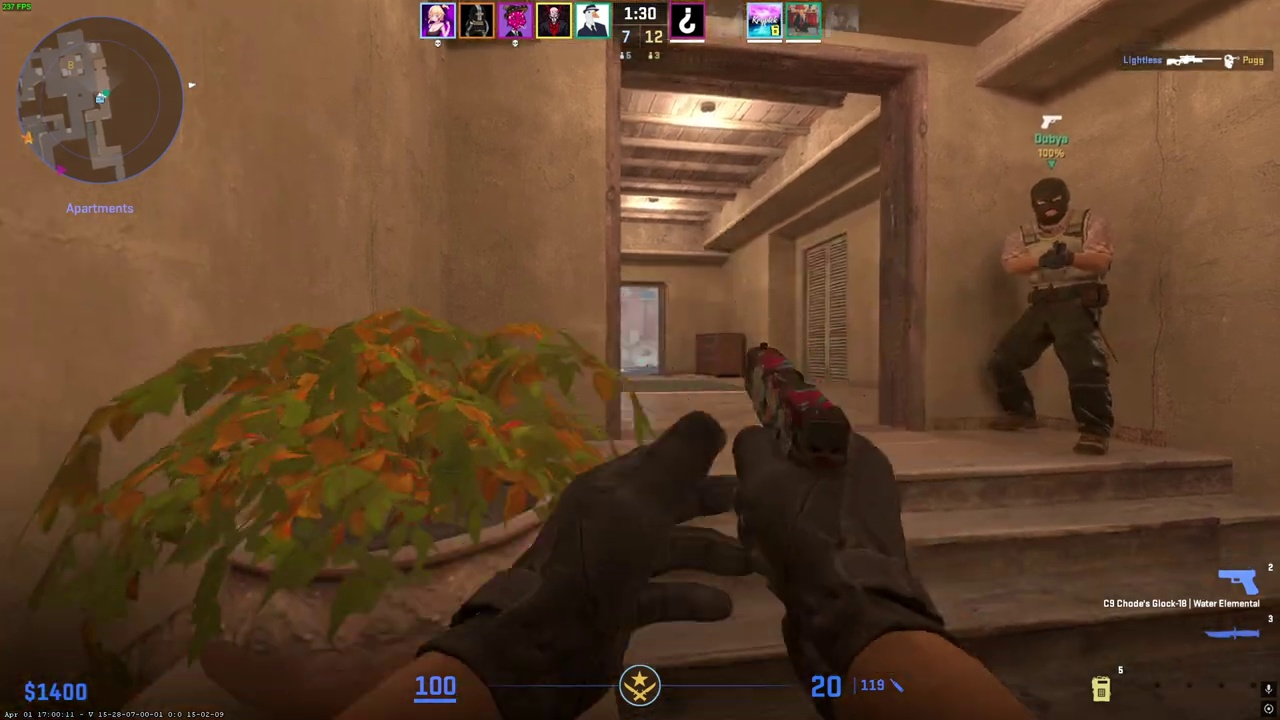Terrorist: (987, 177, 1114, 456)
